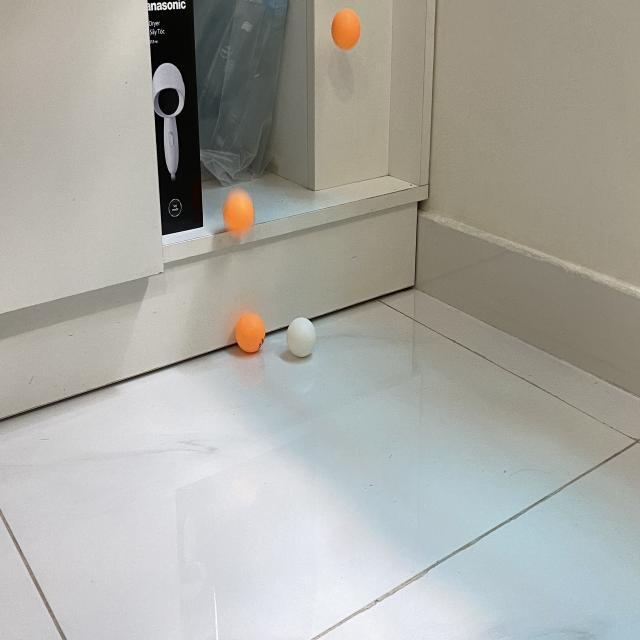ping-pong-ball: (224, 190, 253, 236), (286, 317, 316, 358), (236, 312, 266, 352), (333, 8, 361, 48)
